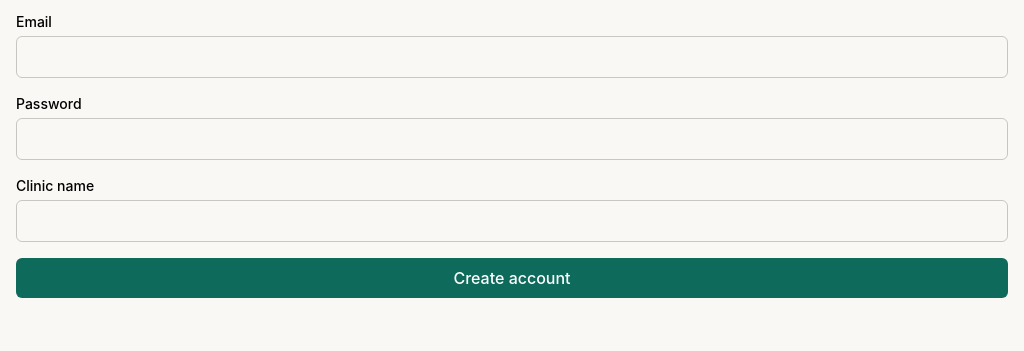
Test: RegisterStaffForm › creates an account with valid input and shows a confirmation
Type "newstaff@vetlog.local" into the field labelled "Email". click: [512, 57]
box: [16, 36, 1008, 78]
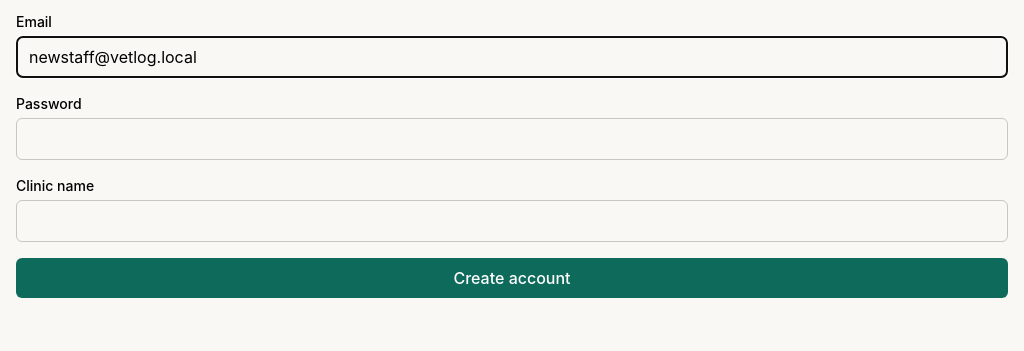
Type "long-enough-password" into the password field labelled "Password". click: [512, 139]
box: [16, 118, 1008, 160]
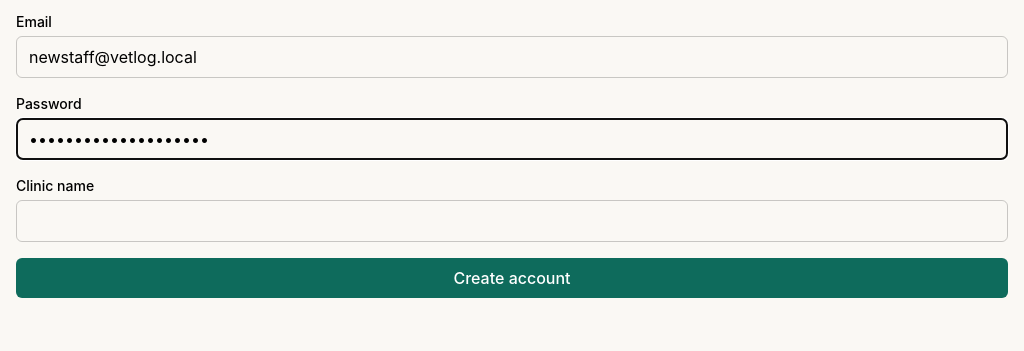
Type "VetLog Clinic" into the field labelled "Clinic name". click: [512, 221]
box: [16, 200, 1008, 242]
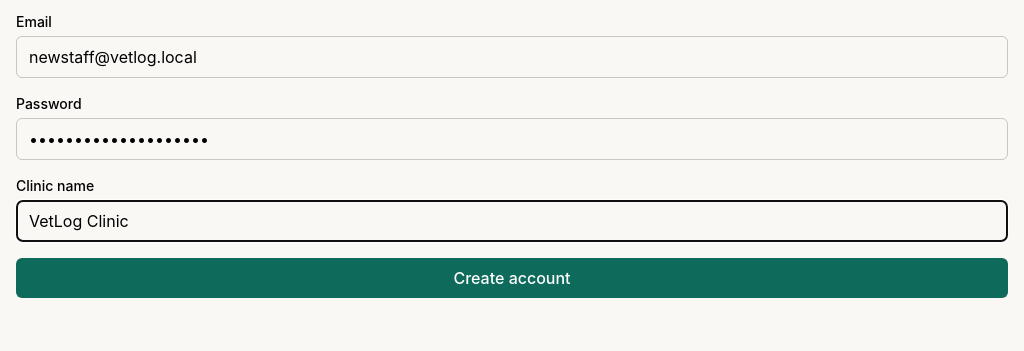
Click the button "Create account". click: [512, 278]
box: [16, 258, 1008, 298]
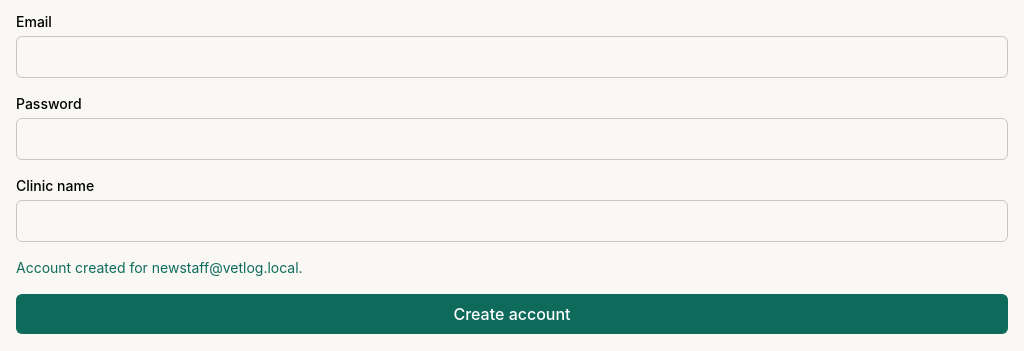
Check: the message shows "newstaff@vetlog.local", box [152, 259, 299, 276]
